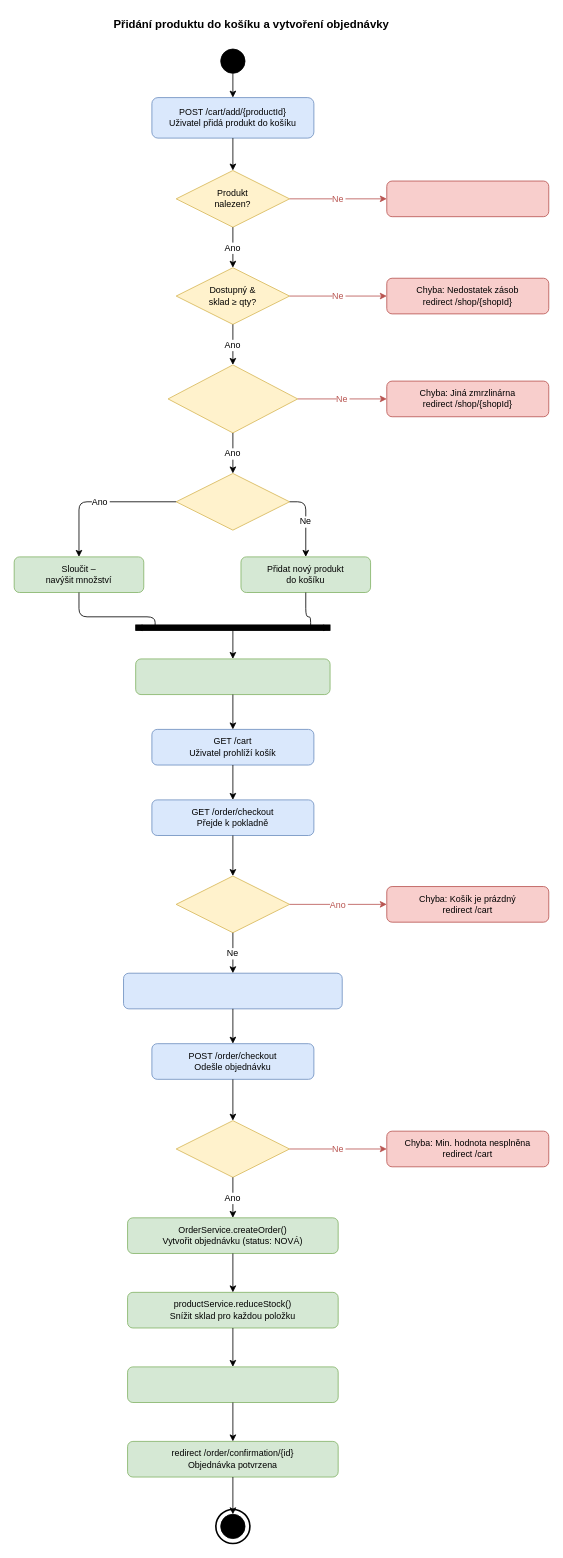
This 563x1558 diagram has some shape labels left out. The centre of each missing label's shape, as x and y in pixels:
cartService.clearCart() Vymazat košík ze session: (232,1384)
Cena ≥ 50 Kč?: (232,1148)
Chyba: Produkt nenalezen redirect /: (467,198)
Košík aktualizován flash: 'Produkt přidán do košíku': (232,676)
Košík prázdný nebo stejná zmrzlinárna?: (232,398)
Košík prázdný?: (232,904)
Produkt již v košíku?: (232,501)
Vyplní CustomerDetails (jméno, e-mail, telefon, poznámka): (232,990)
